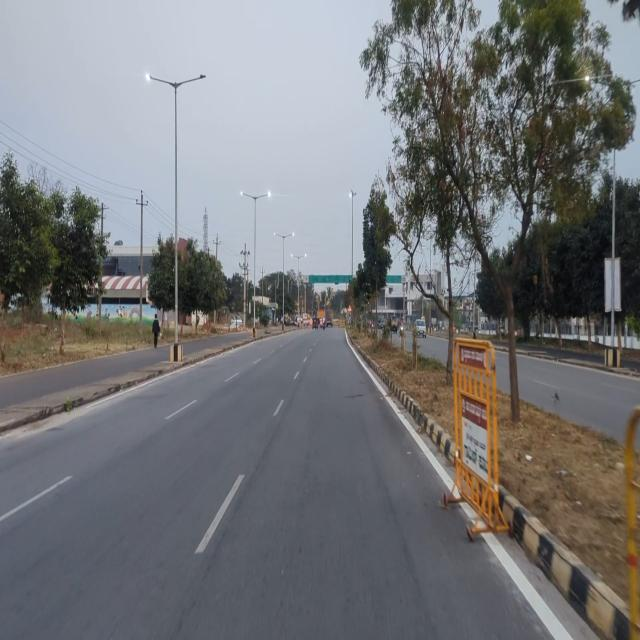bien_cam: (347, 304, 352, 311)
